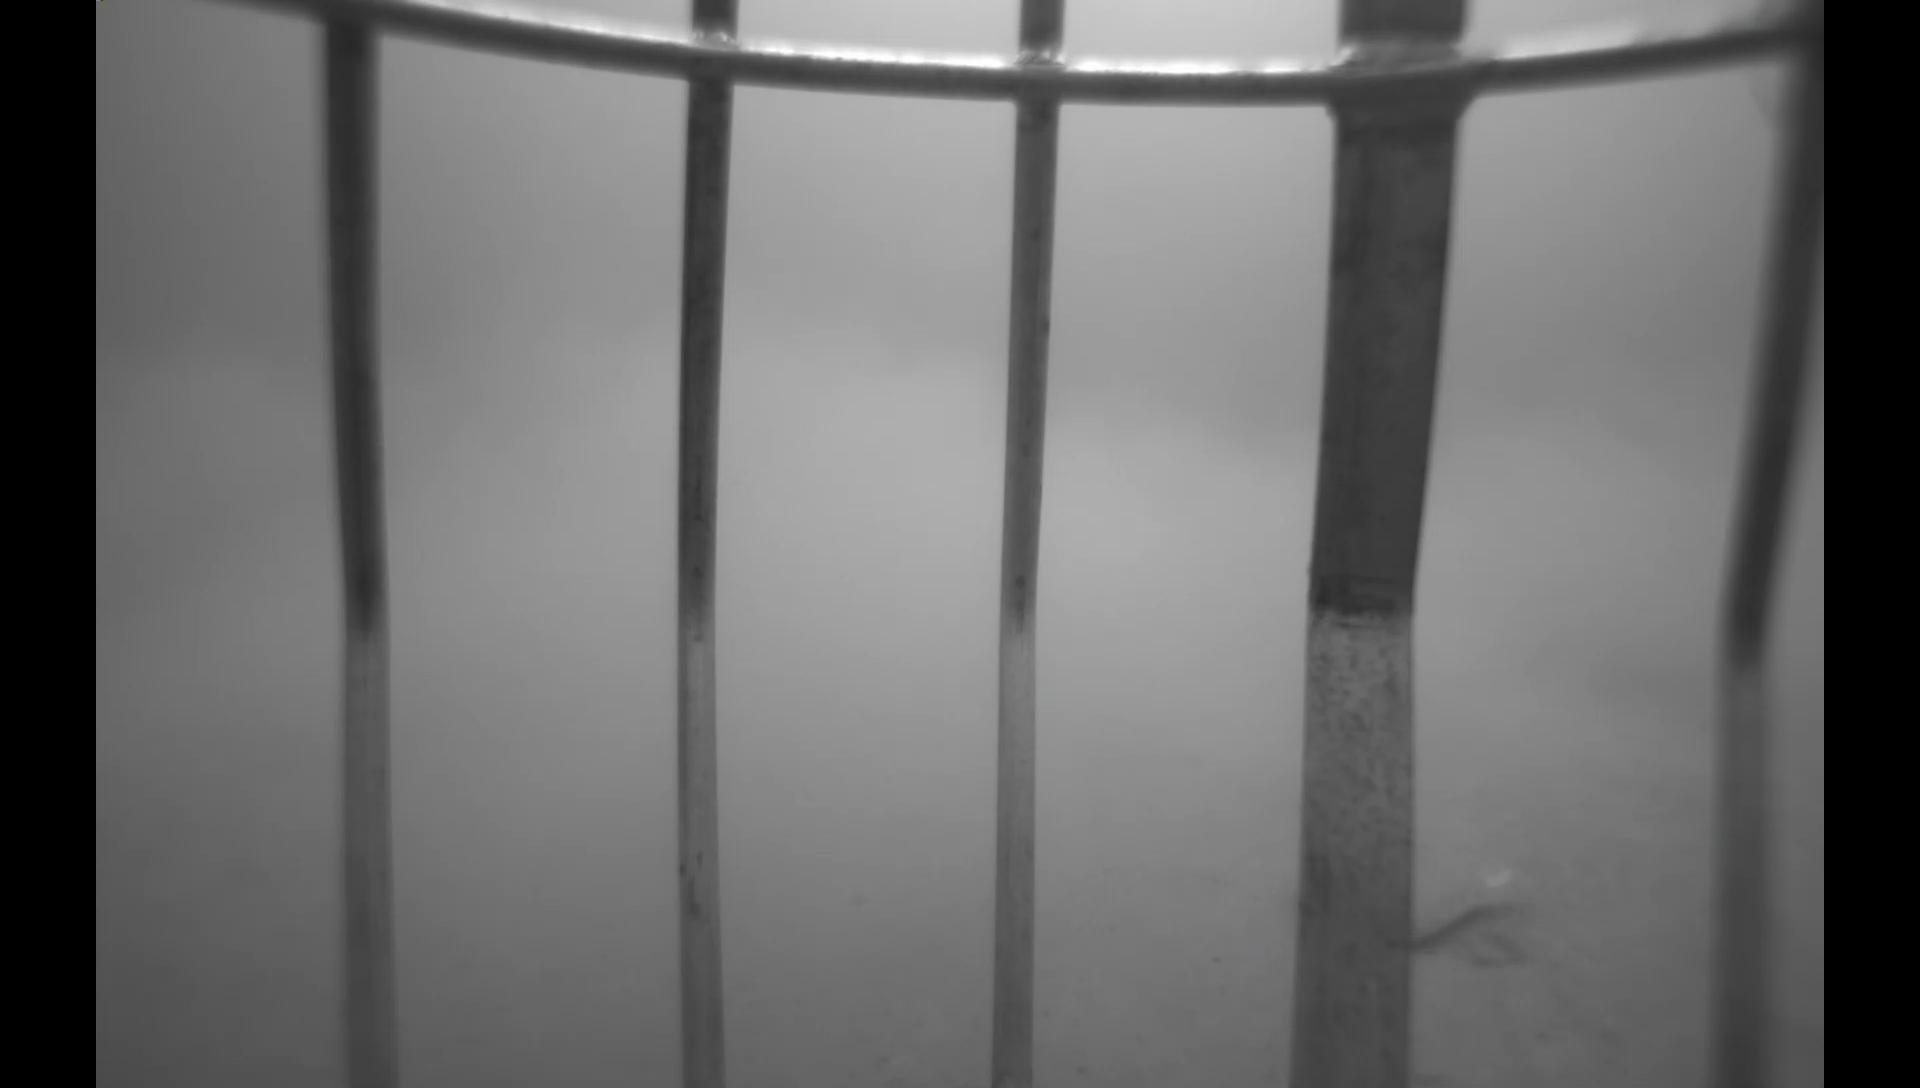OPHICHTHUSPUNCTICEPS-143150402: (1276, 870, 1545, 980)
